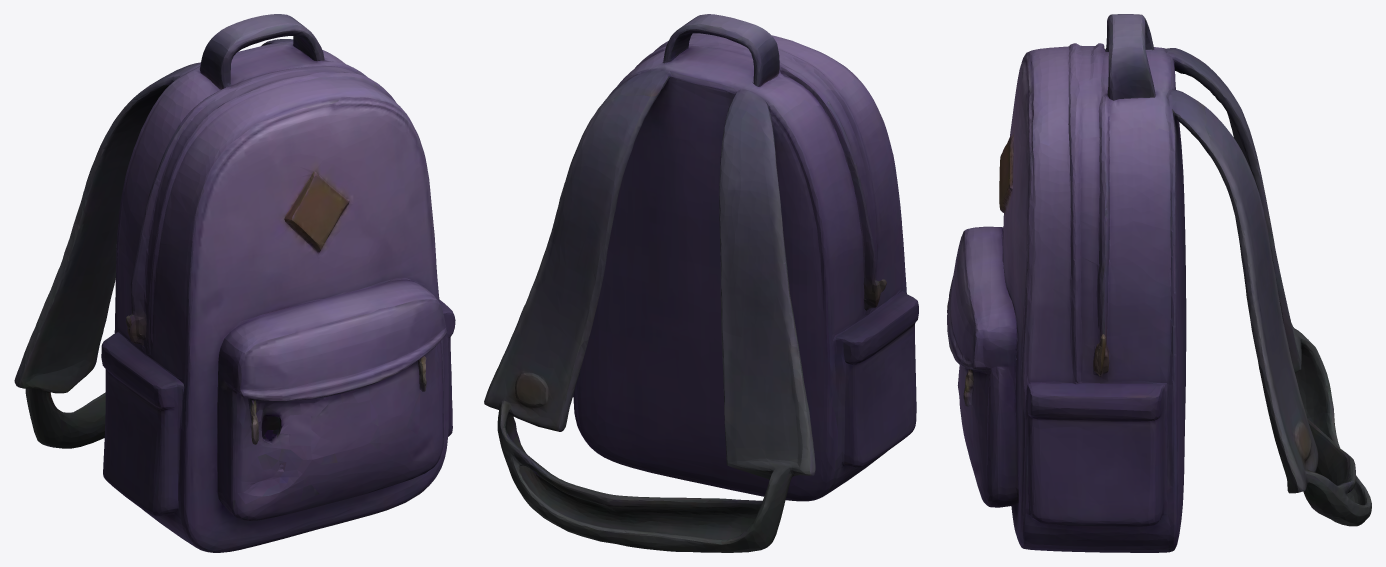
File: backpack.glb
3 views of the same model, side by side, from view 1: azimuth 30°, elevation 25°; view 2: azimuth 150°, elevation 25°; view 3: azimuth 270°, elevation 25° (orthographic). The views are drawn at different scales.
Visible parts, largest first — view 1: world; view 2: world; view 3: world.
Part boxes in pixels (box(x1,y1,x2,y2)): world: box(14, 14, 455, 552); world: box(484, 14, 918, 552); world: box(947, 14, 1371, 552).
Bounding box in the file's own units: 0.7412 × 0.9986 × 0.7982.
1 material, 1 textured.
